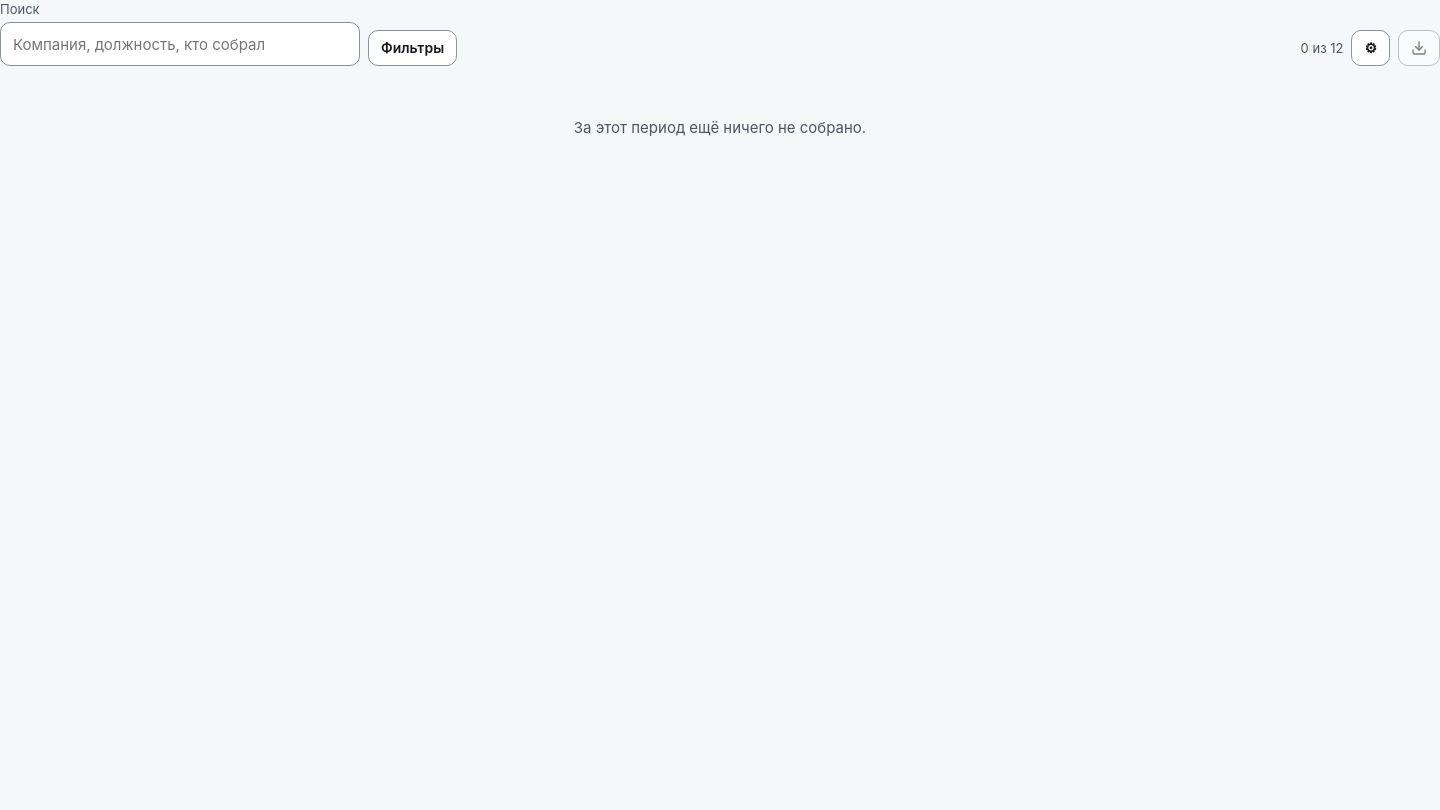
Scenario: пусто без фильтров и пусто с фильтрами — разные сообщения
Expected: the text "За этот период ещё ничего не собрано." is shown, x1=574 y1=118 x2=866 y2=137
Click the button "Фильтры": (413, 48) x1=368 y1=30 x2=457 y2=66
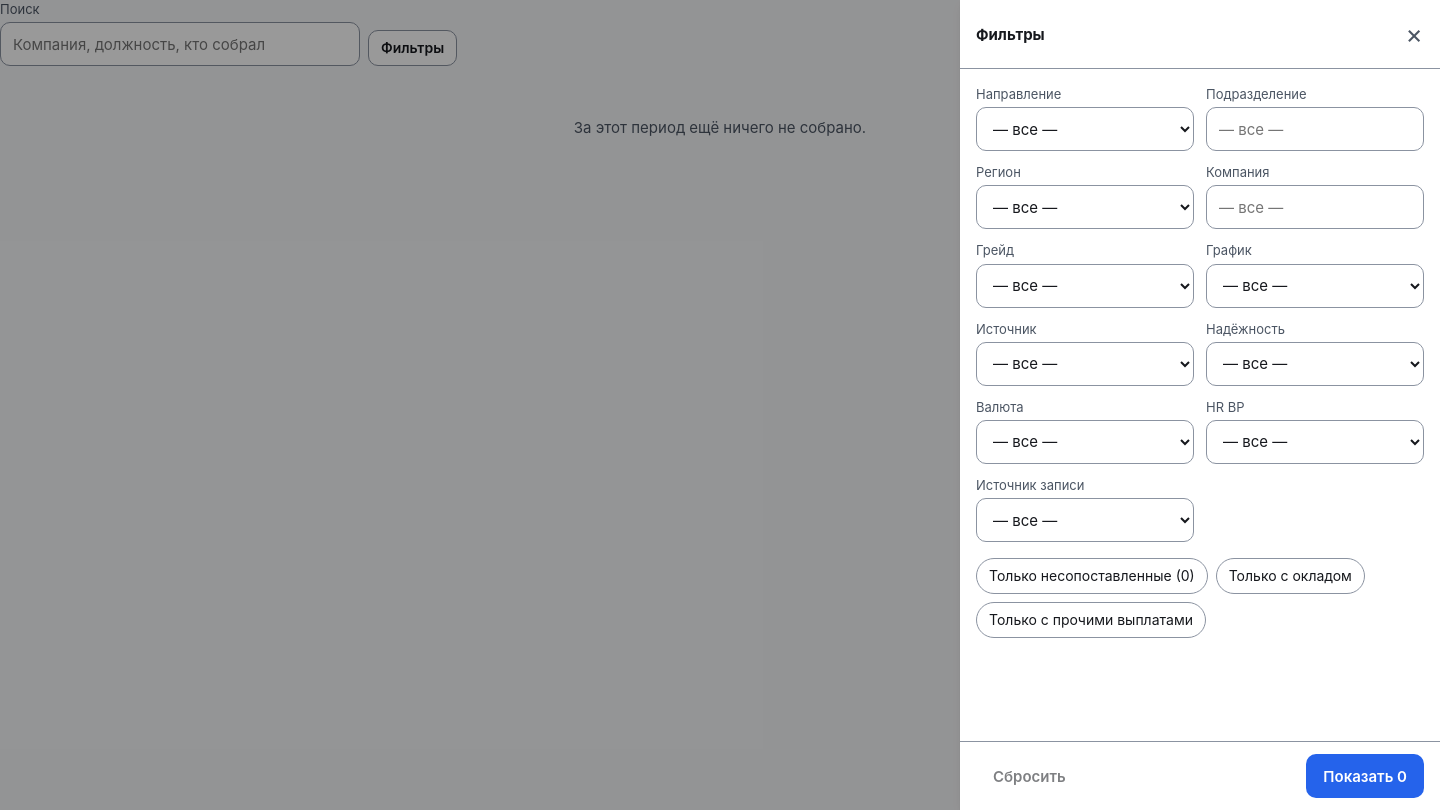
Click the dropdown labelled "Компания": (1315, 207) x1=1206 y1=185 x2=1424 y2=229
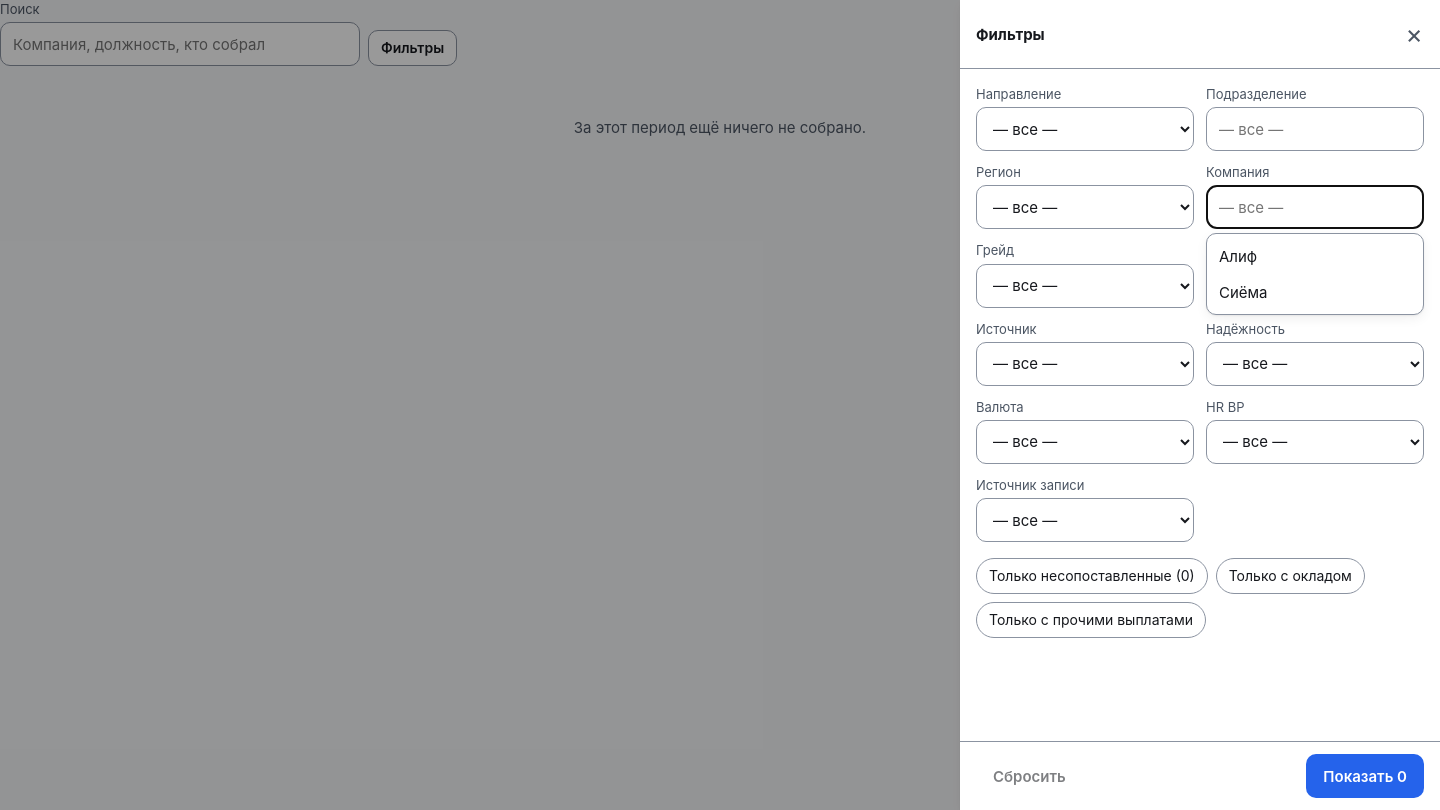
Click the option "Сиёма": (1243, 292) x1=1219 y1=283 x2=1268 y2=302
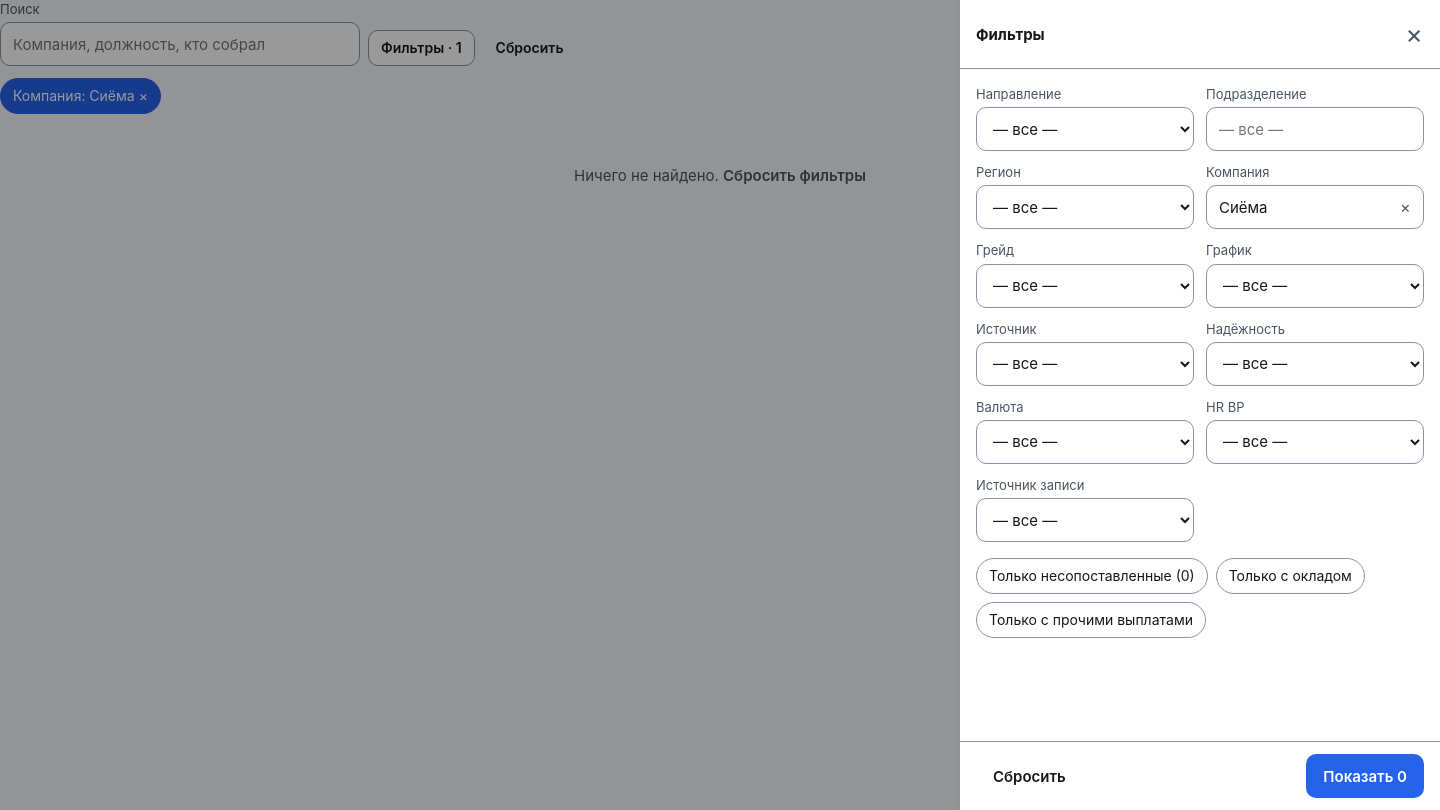
Now the text "Ничего не найдено. Сбросить фильтры" is shown, box x1=574 y1=165 x2=866 y2=186
